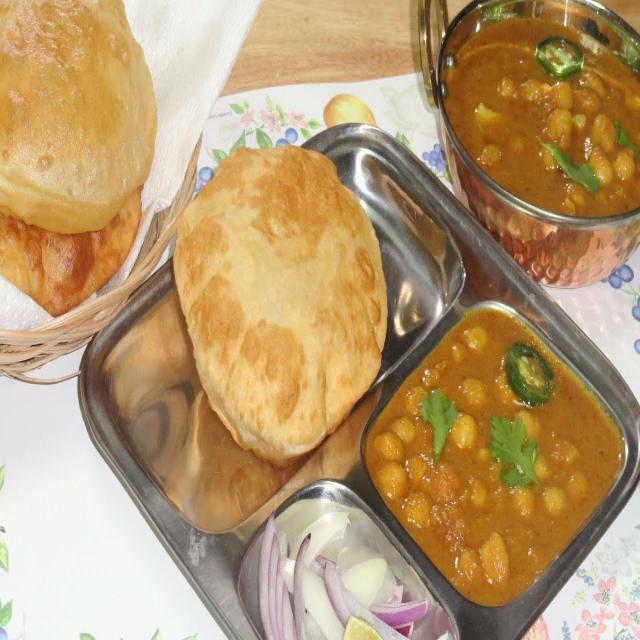Bhatura: (173, 145, 389, 463), (0, 0, 155, 315)
Chole: (379, 305, 589, 591)
